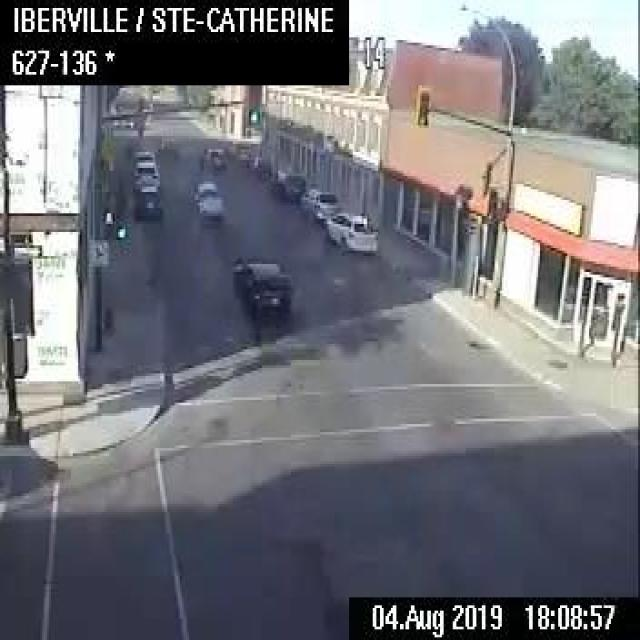vehicle: (231, 253, 290, 316), (322, 210, 378, 252), (298, 186, 338, 219), (269, 168, 304, 202), (192, 179, 222, 217), (128, 148, 158, 182), (133, 184, 162, 215), (132, 160, 160, 190), (200, 144, 226, 169)
